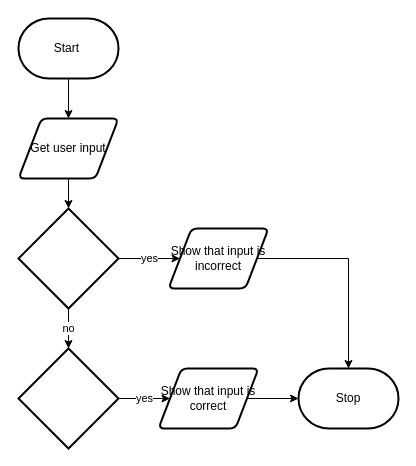
This 416x466 diagram has some shape labels left out. Here are the shapes that lost their labels. From the top down, the centre of each, then its label:
the point at 68,258: If user input != 5
the point at 68,398: If user input == 5
